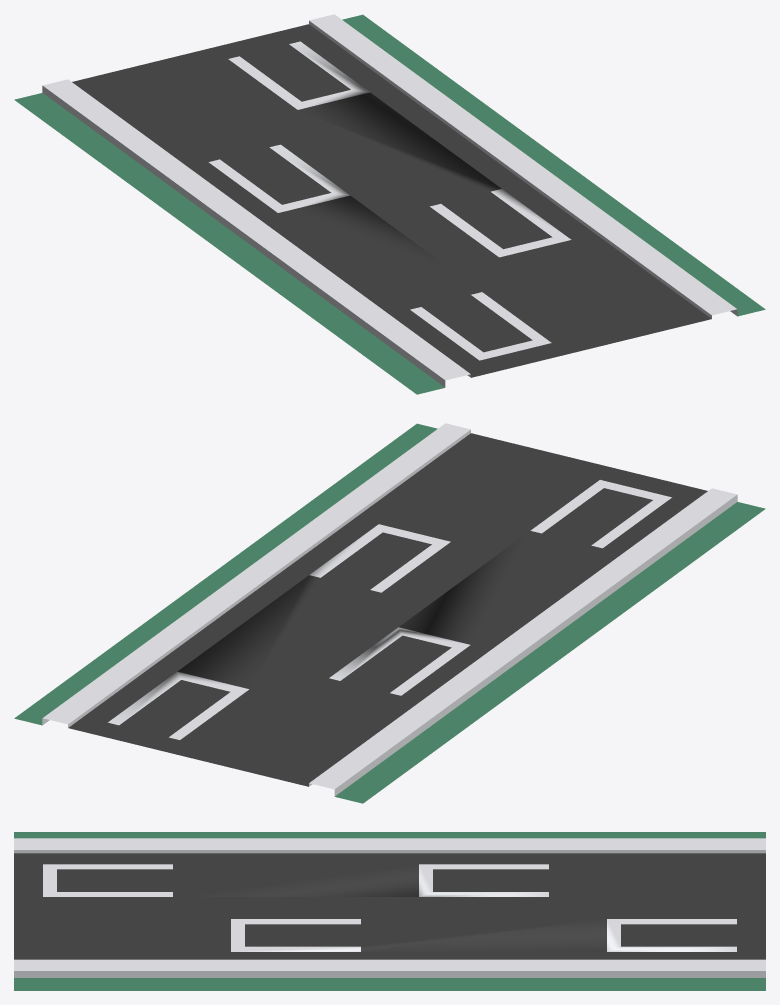
Rendered from roadStartPositions.obj.
The picture shows the model from 3 angles, top to bottom: view 1: azimuth 30°, elevation 25°; view 2: azimuth 150°, elevation 25°; view 3: azimuth 270°, elevation 25°; orthographic projection. The views are drawn at different scales.
Visible parts, largest first — view 1: roadStartPositions; view 2: roadStartPositions; view 3: roadStartPositions.
Part boxes in pixels (<box>): roadStartPositions: <box>14,14,765,394</box>; roadStartPositions: <box>14,423,765,803</box>; roadStartPositions: <box>14,832,765,990</box>.
Size of the model in its own units: 1 by 0.02 by 2.
